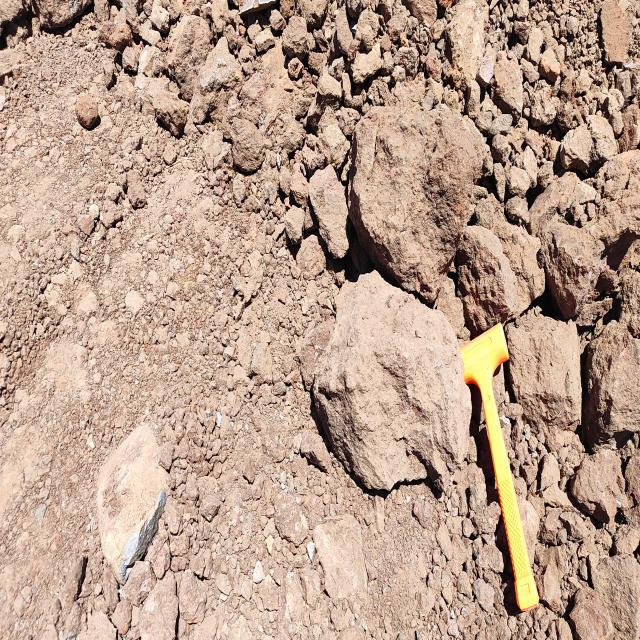Orange_hammer: (459, 321, 540, 612)
